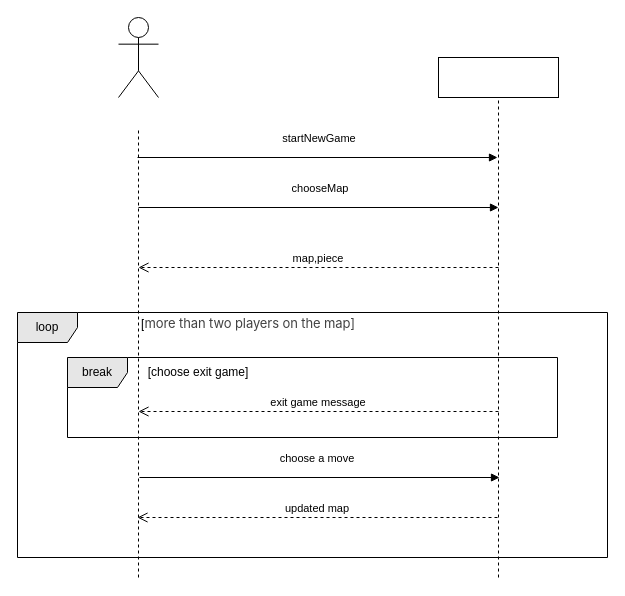
Some shapes in this 625 by 596 pixel diagram are drawn without their labels. The centre of each missing label's shape, as x and y in pixels:
":Player" goes at point 138,57.
":System" goes at point 498,77.
